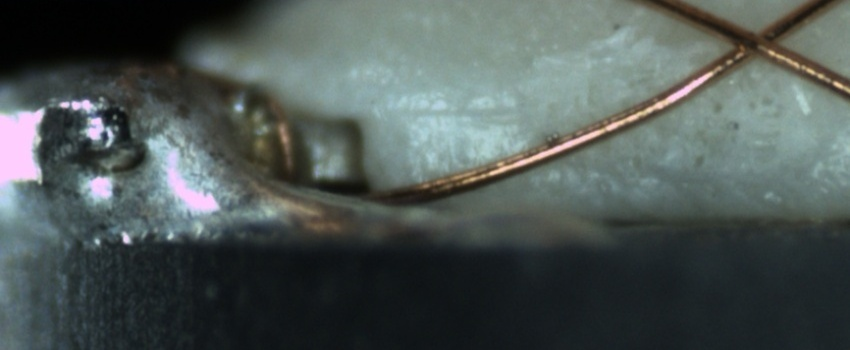CL: (707, 11, 809, 73)
DL: (406, 83, 521, 143)
TE: (263, 91, 301, 194)
